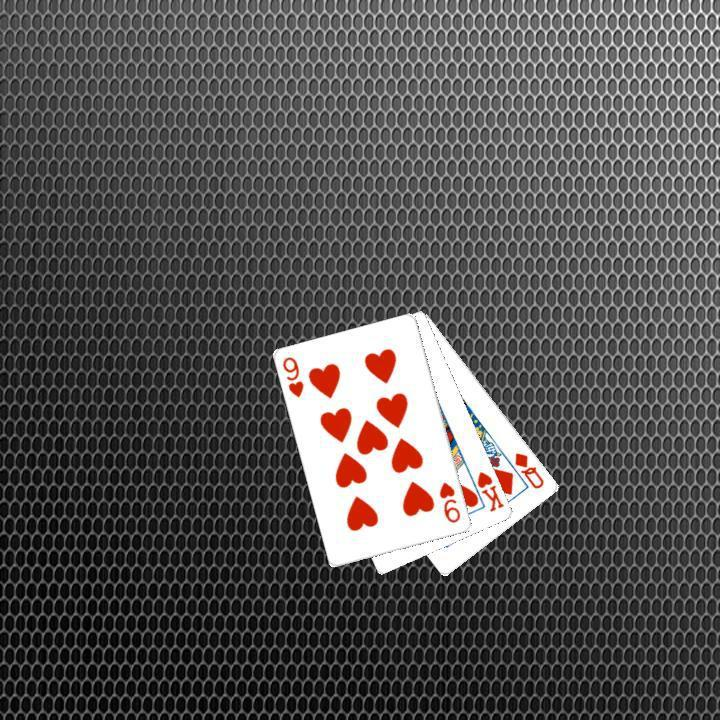9: (278, 352, 306, 400), (435, 478, 463, 525)
K: (473, 467, 506, 514)
Q: (510, 448, 546, 491)
